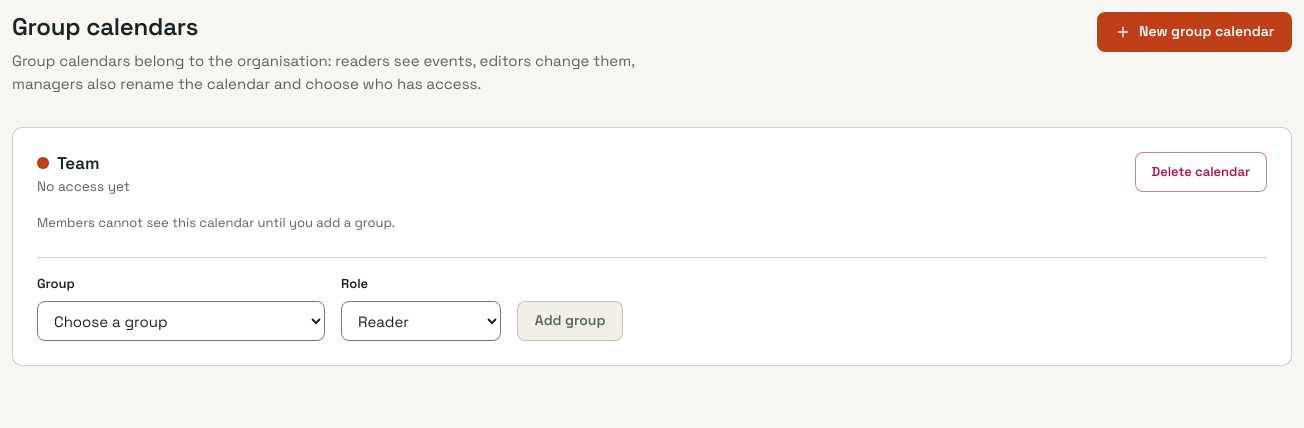
Test case: GroupCalendars › asks for a fresh sign-in when delete needs step-up
Click the button "Delete calendar".
click(1201, 172)  # box [1134,152,1267,192]
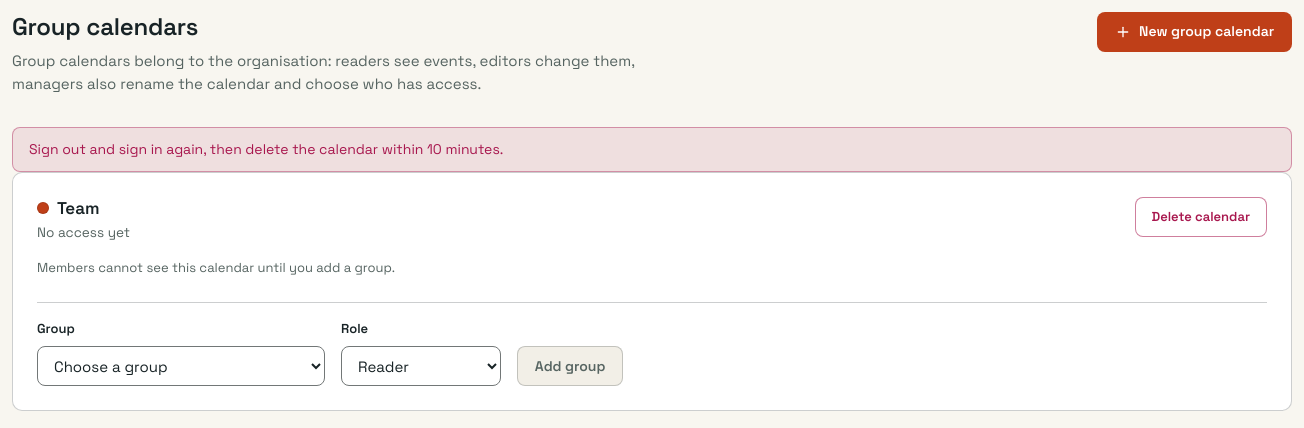
Expected: the message shows "sign in again", [29,140,503,158]
